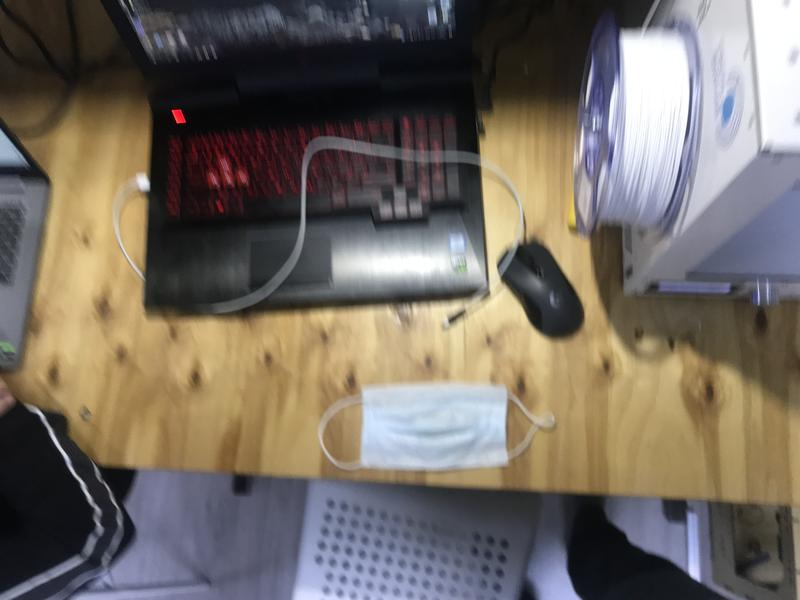medical_mask: (320, 385, 554, 467)
